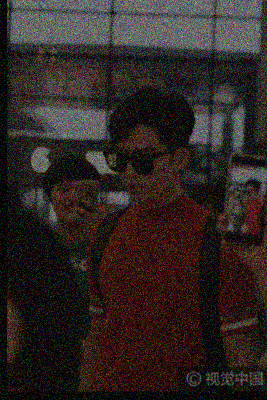without_mask: (115, 141, 176, 203), (52, 181, 87, 226)
